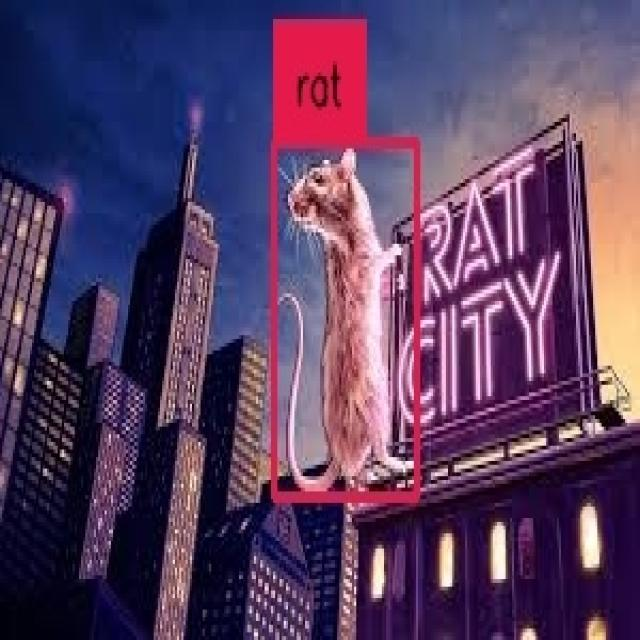rat: (274, 143, 417, 497)
